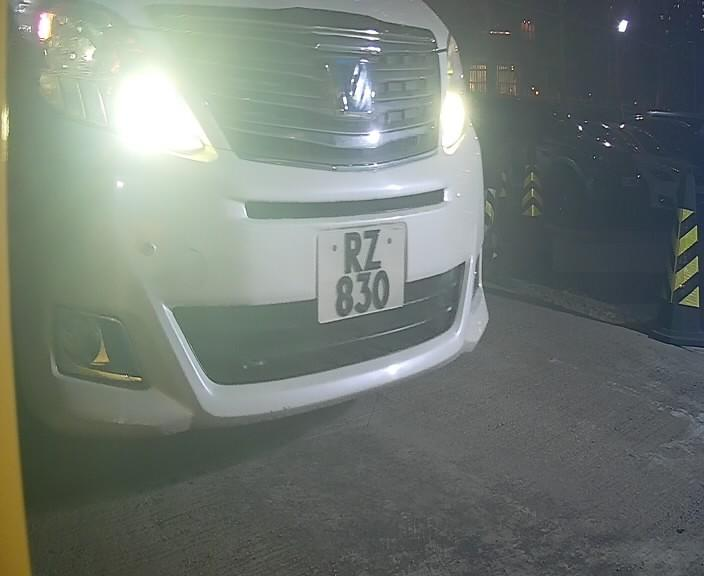Car: (13, 11, 569, 489)
License Plate: (305, 206, 415, 332)
